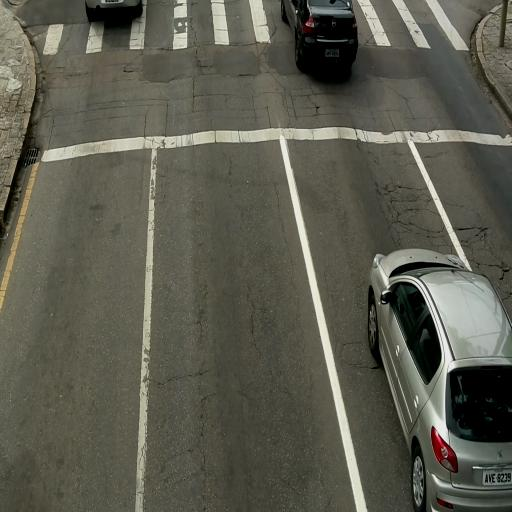car: (366, 251, 510, 505), (280, 2, 360, 76), (84, 0, 145, 21)
